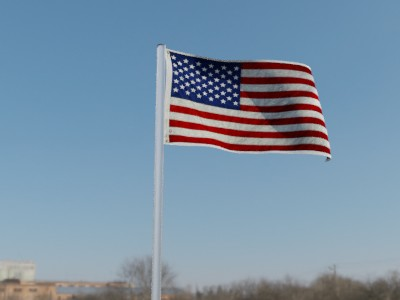America flag: (163, 50, 337, 165)
